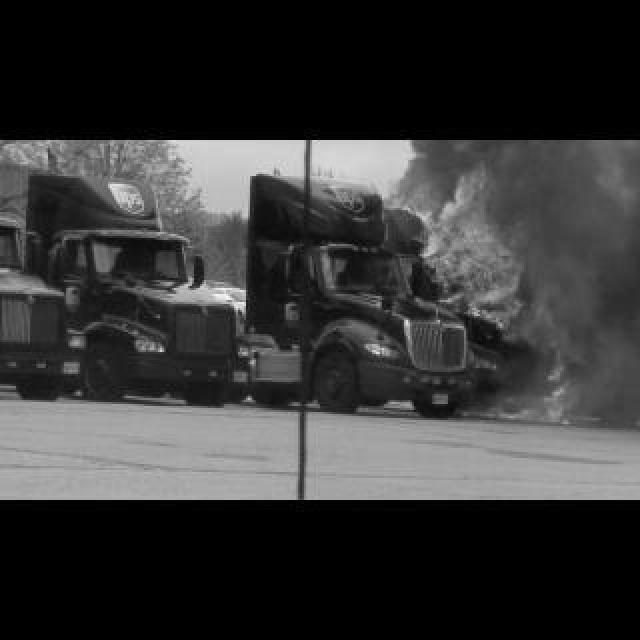Fire: (422, 170, 530, 335), (480, 344, 570, 434)
Smoke: (498, 144, 638, 386)
